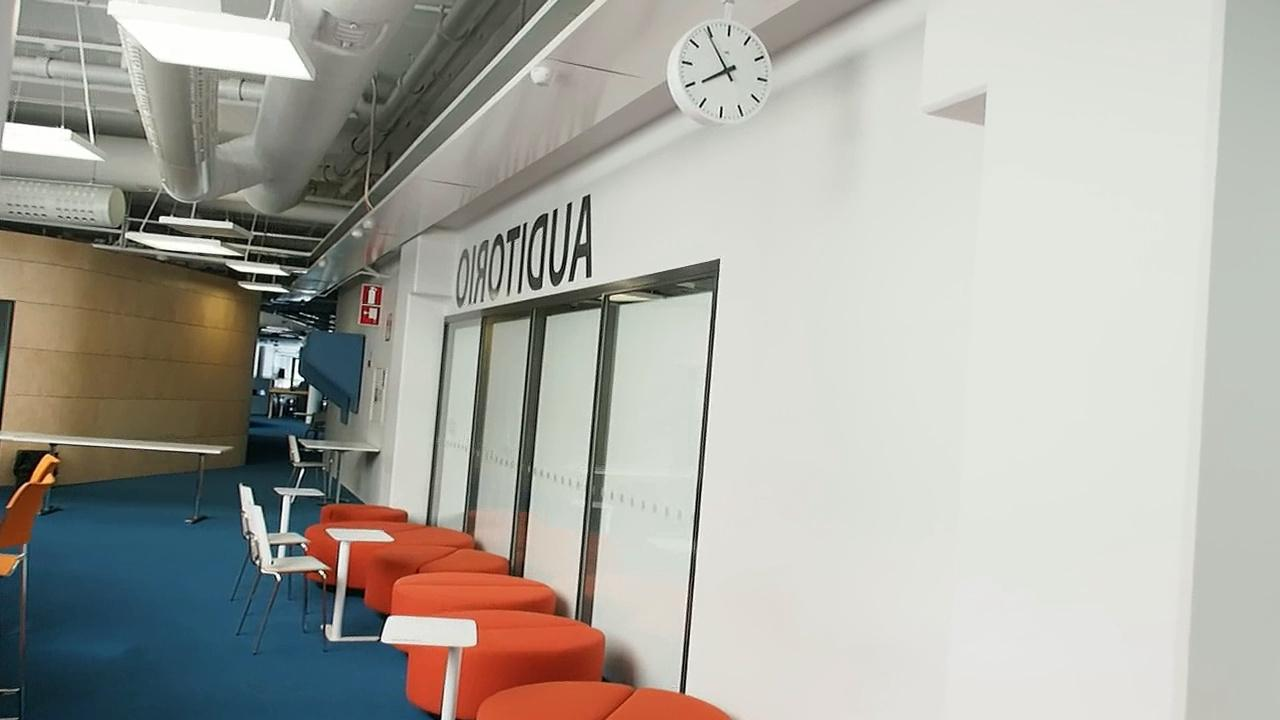chair: (228, 495, 321, 641)
clock: (667, 15, 779, 120)
